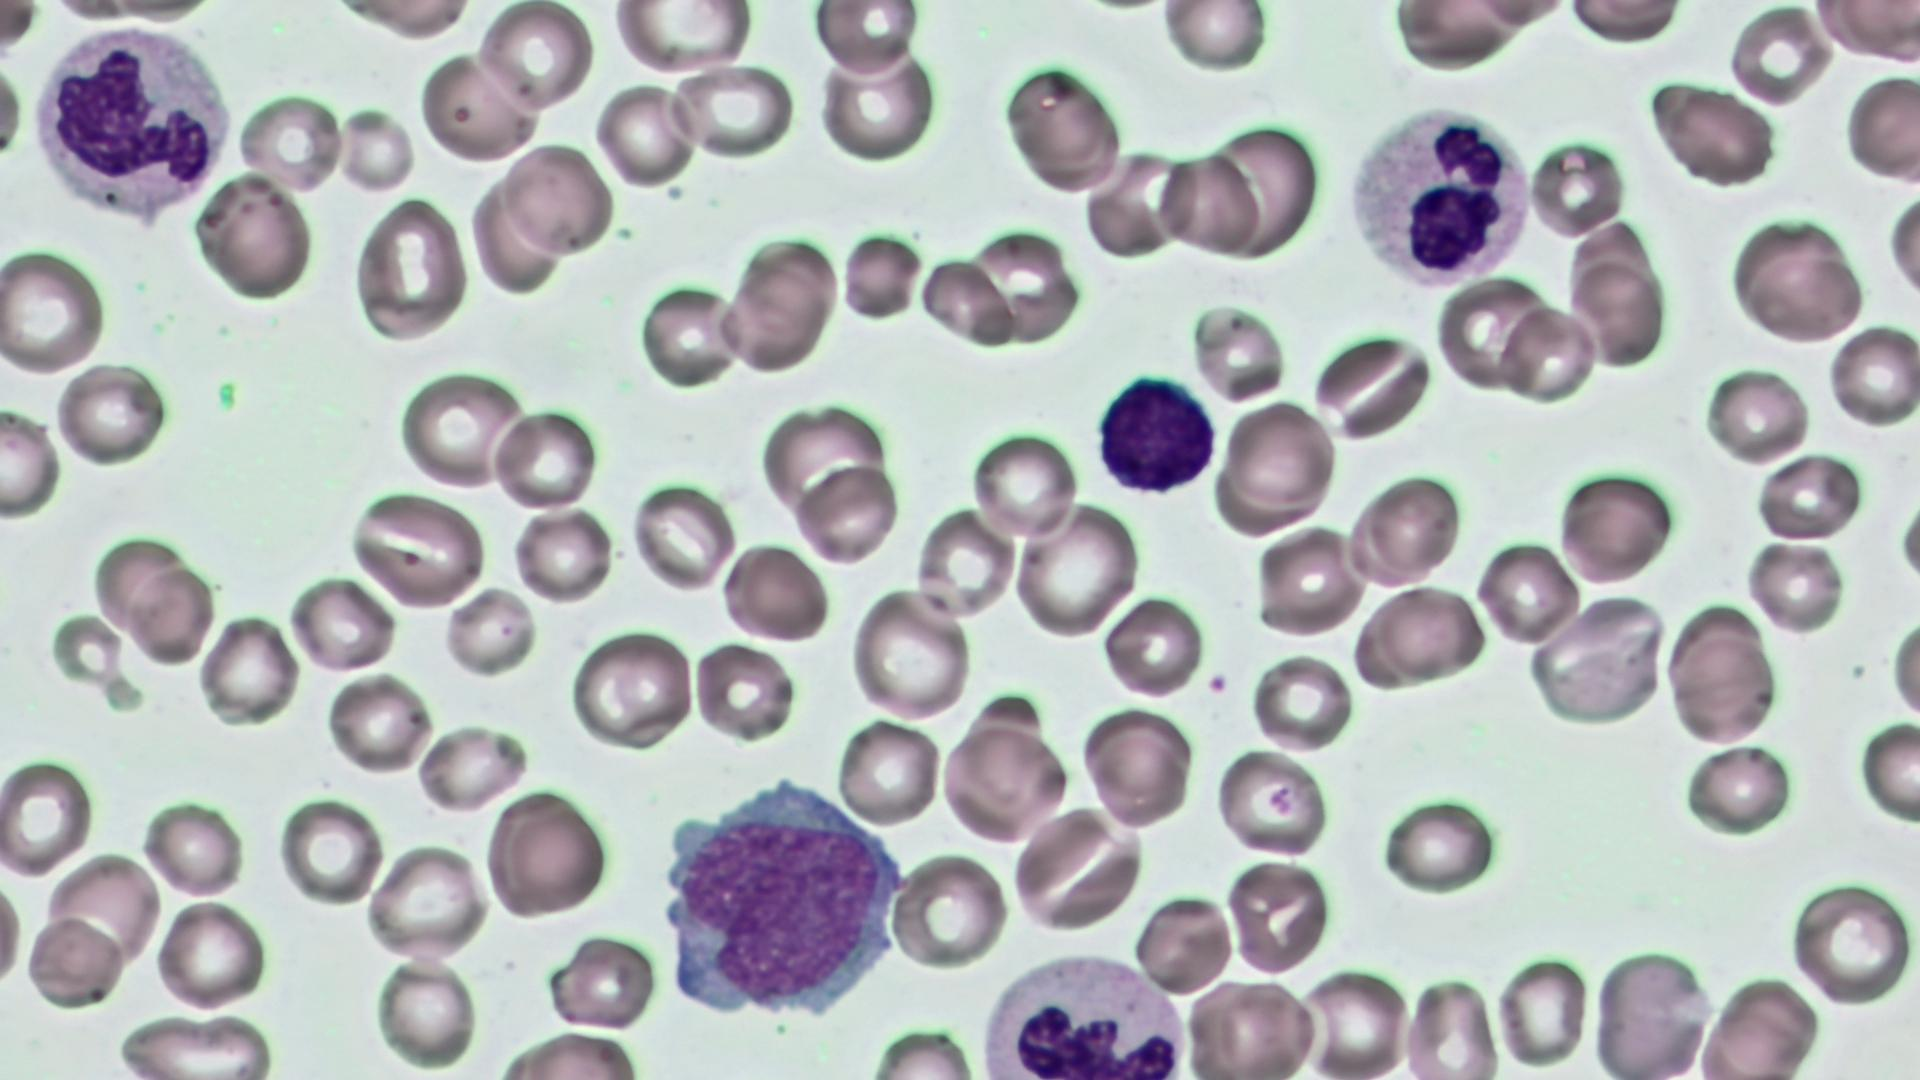RBC: (1527, 593, 1668, 727), (757, 400, 891, 533), (1011, 501, 1139, 641), (1000, 59, 1127, 195), (1203, 119, 1323, 261), (1730, 220, 1865, 347), (1007, 808, 1142, 934), (848, 585, 972, 721), (1785, 877, 1912, 1009), (190, 171, 314, 306), (348, 491, 487, 611), (353, 195, 467, 342), (940, 715, 1069, 843), (398, 364, 526, 492), (567, 622, 694, 752), (727, 233, 837, 375), (363, 843, 489, 964), (44, 848, 165, 972), (1644, 76, 1779, 187), (0, 241, 108, 378), (814, 47, 938, 165), (1079, 704, 1196, 828), (1218, 398, 1338, 518), (1557, 465, 1673, 589), (1309, 327, 1432, 442), (495, 795, 607, 920), (417, 49, 535, 166), (891, 851, 1007, 971), (476, 0, 596, 116), (1436, 272, 1549, 393), (965, 225, 1077, 348), (502, 138, 615, 260), (154, 898, 269, 1013), (1213, 744, 1331, 856), (1665, 628, 1776, 746), (913, 502, 1021, 624), (1253, 525, 1367, 637), (971, 427, 1081, 543), (1300, 964, 1412, 1077), (1154, 145, 1265, 260), (371, 953, 480, 1069), (670, 61, 796, 161), (1197, 975, 1320, 1077), (51, 361, 170, 467), (1226, 856, 1331, 976), (1472, 535, 1582, 647), (1357, 469, 1465, 584), (835, 715, 943, 829), (630, 480, 736, 595), (195, 612, 301, 727), (1379, 794, 1498, 895), (0, 753, 95, 880), (280, 794, 384, 909), (545, 931, 662, 1033), (1493, 949, 1592, 1069), (1725, 3, 1836, 109), (1568, 255, 1669, 371), (638, 280, 742, 392), (1101, 592, 1207, 702), (467, 175, 559, 299), (324, 673, 433, 778), (491, 404, 597, 509), (793, 459, 898, 566), (1187, 297, 1291, 405), (236, 88, 344, 193), (721, 539, 831, 642), (1677, 742, 1800, 833), (593, 82, 698, 189), (692, 638, 795, 746), (1701, 363, 1809, 465), (1374, 583, 1484, 684), (286, 572, 396, 674), (1247, 649, 1354, 752), (141, 795, 248, 898), (1528, 133, 1629, 243), (508, 502, 613, 604), (611, 1, 753, 76), (22, 909, 127, 1010), (1131, 890, 1232, 996), (414, 723, 527, 814), (116, 1013, 276, 1077), (916, 252, 1019, 352), (1404, 973, 1502, 1077), (1826, 320, 1917, 431), (87, 531, 186, 632), (1746, 538, 1847, 633), (1497, 306, 1596, 402), (1753, 452, 1859, 541), (127, 562, 216, 665), (814, 0, 924, 80), (1842, 69, 1917, 185), (444, 585, 537, 679), (843, 225, 923, 327), (1158, 1, 1270, 73), (1855, 715, 1920, 827), (338, 104, 415, 196), (1808, 1, 1920, 65), (0, 404, 61, 518), (328, 0, 477, 40), (1563, 0, 1684, 44), (1880, 189, 1920, 313)
WBC: (651, 775, 909, 1025), (22, 18, 237, 232), (1336, 100, 1542, 294), (972, 949, 1193, 1079), (1092, 368, 1221, 497)
